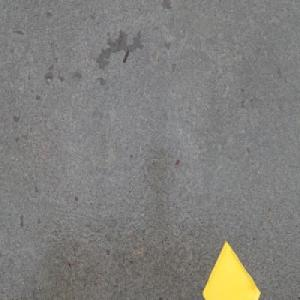PlasticPart: (201, 239, 261, 300)
